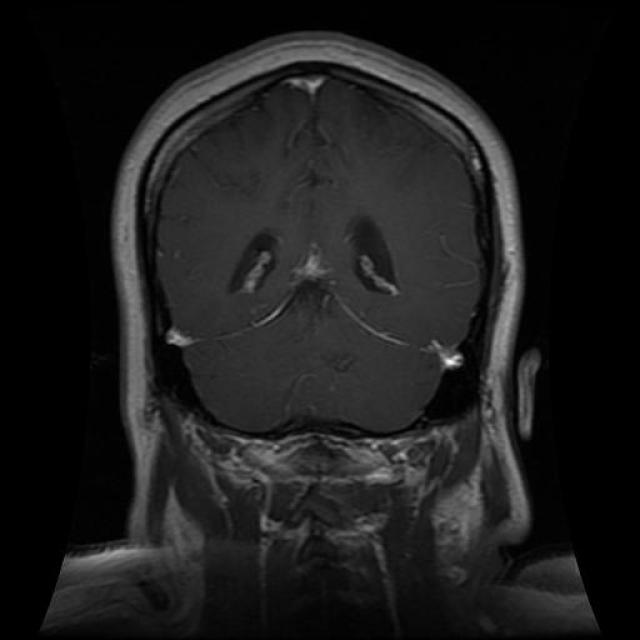glioma: (348, 216, 403, 296), (231, 228, 281, 296)
